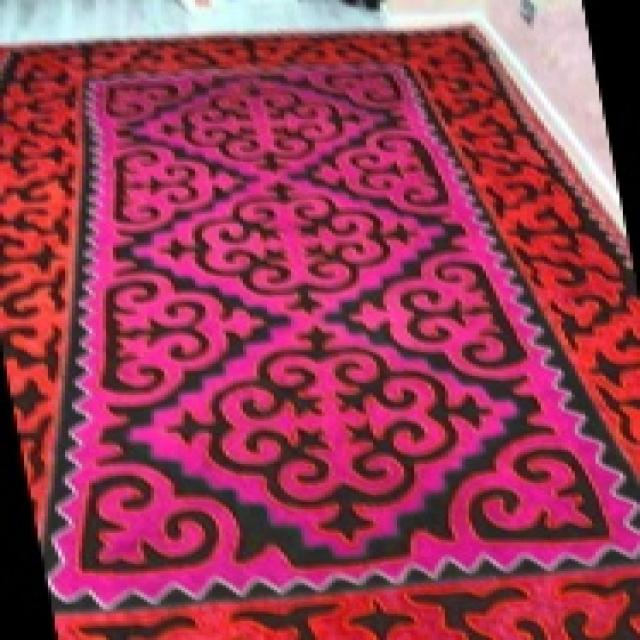Unity: (142, 326, 522, 545), (146, 178, 439, 325), (329, 230, 544, 401), (100, 247, 286, 439), (145, 77, 380, 179), (301, 116, 454, 226), (117, 140, 250, 240)
